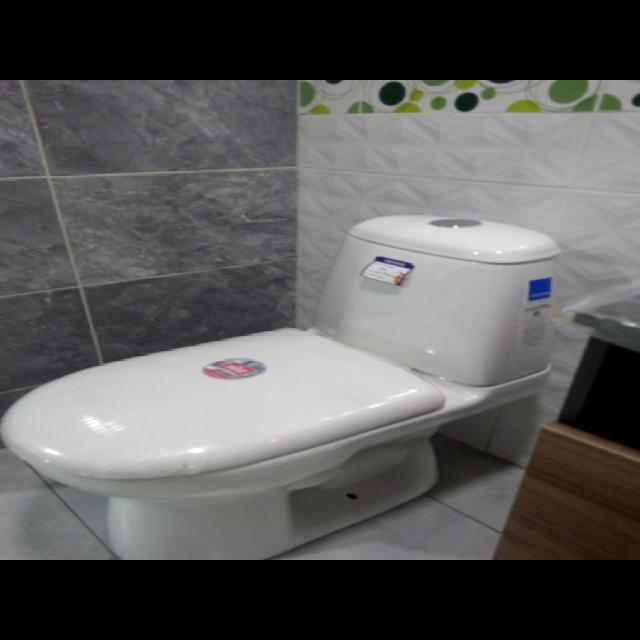toilet: (0, 214, 560, 559)
